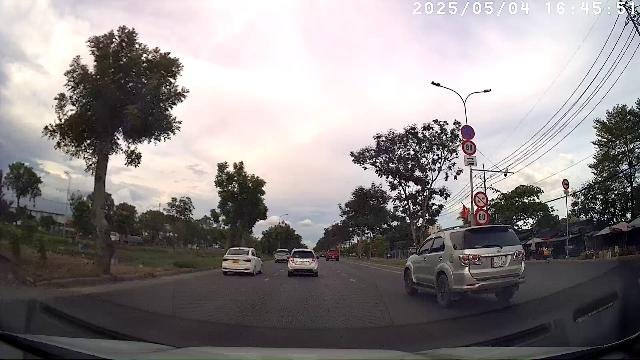127-toc-do-toi-da-60: (474, 208, 490, 226)
127-toc-do-toi-da-80: (462, 140, 476, 156)
130-cam-dung-va-do-xe: (461, 125, 475, 139)
